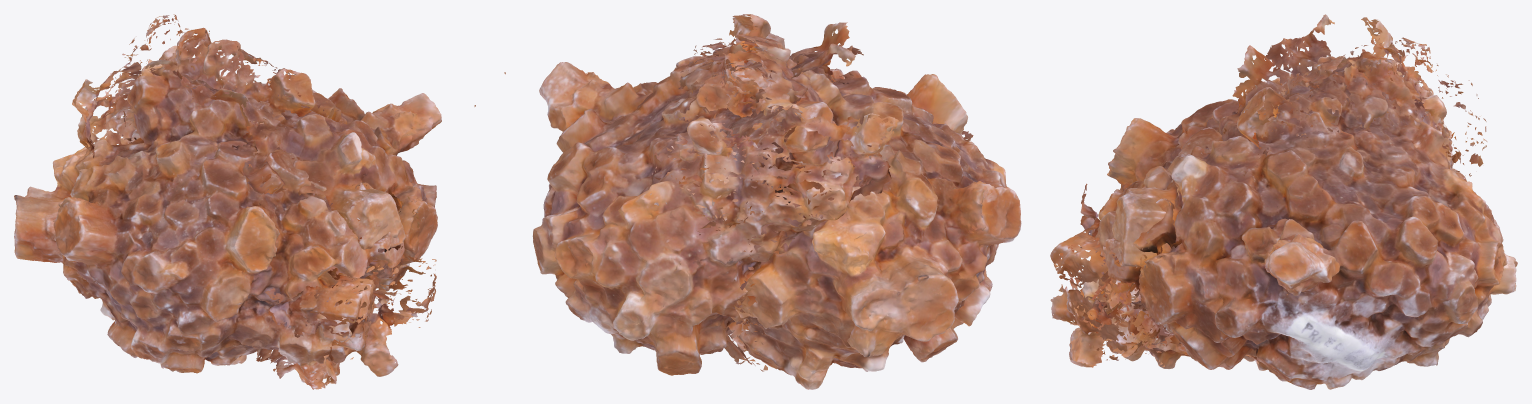
Rendered from aragonite.glb.
3 renders of one model, left to right at view 1: azimuth 30°, elevation 25°; view 2: azimuth 150°, elevation 25°; view 3: azimuth 270°, elevation 25°, orthographic. The views are drawn at different scales.
Parts seen in each view (by area): view 1: Object_3, Object_2, Object_4; view 2: Object_2, Object_3, Object_4; view 3: Object_2, Object_3, Object_4.
Boxes of the visible parts, bbox=[...] form: Object_3: bbox=[14, 27, 475, 382]; Object_2: bbox=[72, 59, 441, 389]; Object_4: bbox=[114, 14, 400, 359]; Object_2: bbox=[532, 22, 973, 375]; Object_3: bbox=[504, 14, 1021, 389]; Object_4: bbox=[694, 25, 802, 371]; Object_2: bbox=[1050, 14, 1517, 389]; Object_3: bbox=[1069, 52, 1466, 370]; Object_4: bbox=[1102, 37, 1487, 354].
Size of the model in its own units: 73726 by 48730 by 64609.
1 material, 1 textured.
